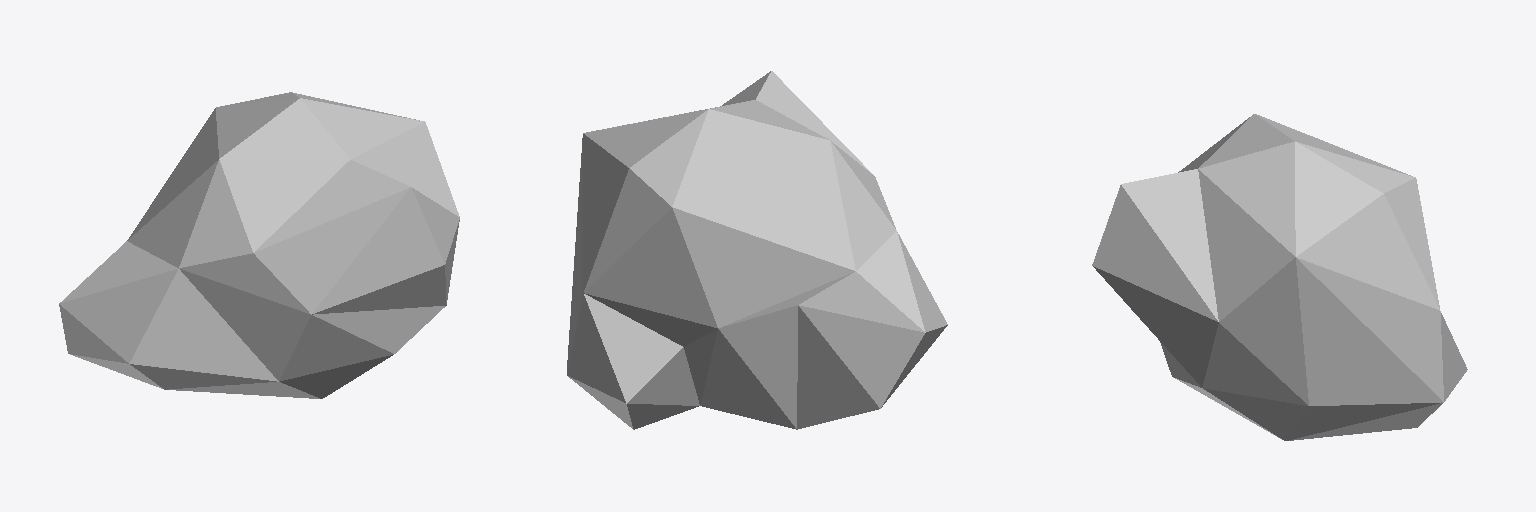
File: Rock3.obj
3 views of the same model, side by side, from view 1: azimuth 30°, elevation 25°; view 2: azimuth 150°, elevation 25°; view 3: azimuth 270°, elevation 25° (orthographic).
Visible parts, largest first — view 1: Group59009; view 2: Group59009; view 3: Group59009.
Boxes of the visible parts, box(x1,y1,x2,y2) form: Group59009: box(59, 92, 459, 398); Group59009: box(567, 71, 947, 429); Group59009: box(1092, 114, 1467, 440).
Bounding box in the file's own units: 3.08 × 2.32 × 2.83.